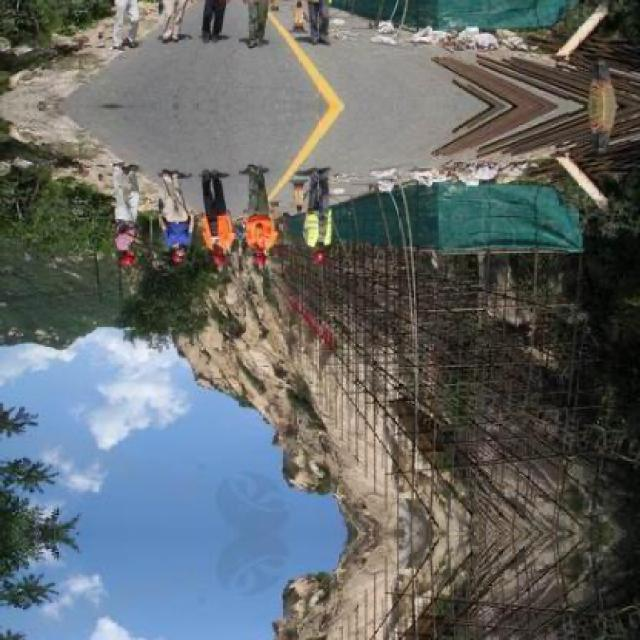con casco: (201, 239, 255, 271), (173, 238, 212, 272), (108, 231, 136, 271), (300, 236, 326, 267), (246, 242, 278, 266)
